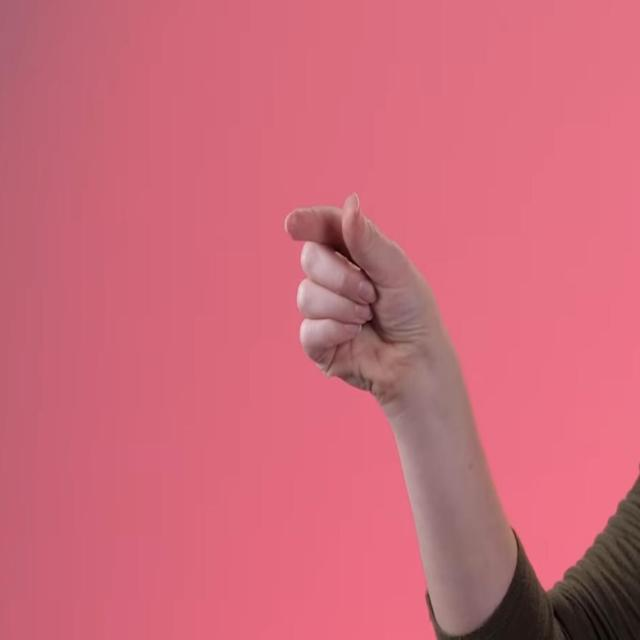G: (281, 188, 454, 407)
